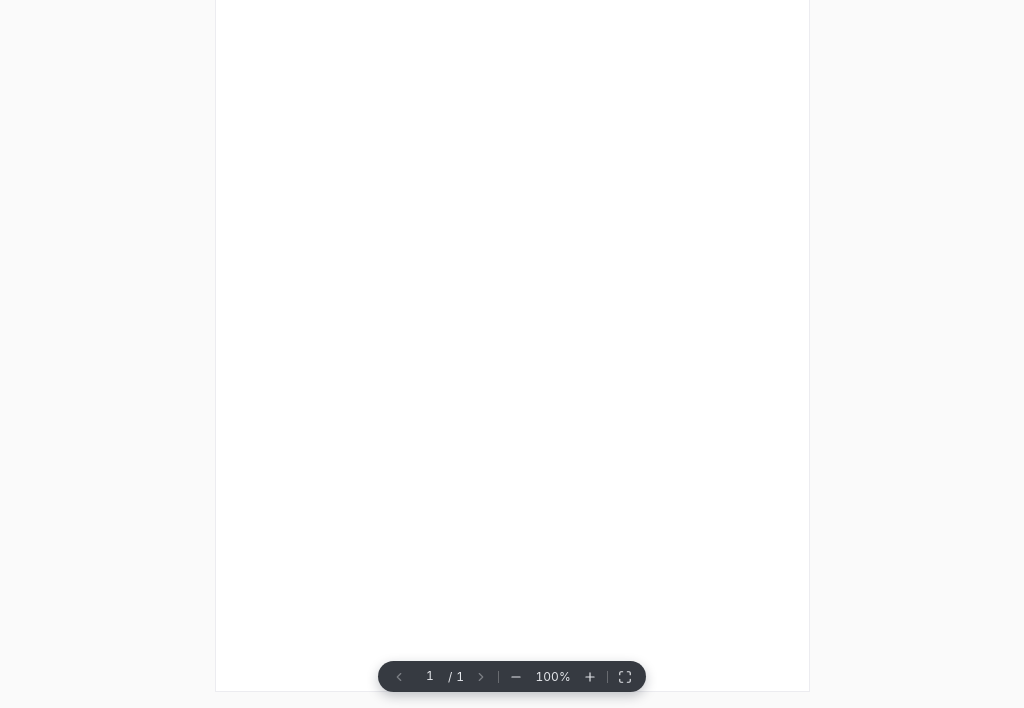
PdfViewer › 확대 버튼 클릭 시 scale이 25% 증가한다
(page scrolled)
Expected: the field with test id "pdf-page-input" holds "1", x1=416 y1=668 x2=444 y2=685
Expected: the text with test id "pdf-scale" reads "100%", x1=533 y1=668 x2=573 y2=684
What coordinates should you click on to do the following:
click the button with test id "pdf-zoom-in"
I would click on:
 (590, 676)
Its box is x1=583 y1=670 x2=597 y2=684.
(page scrolled)
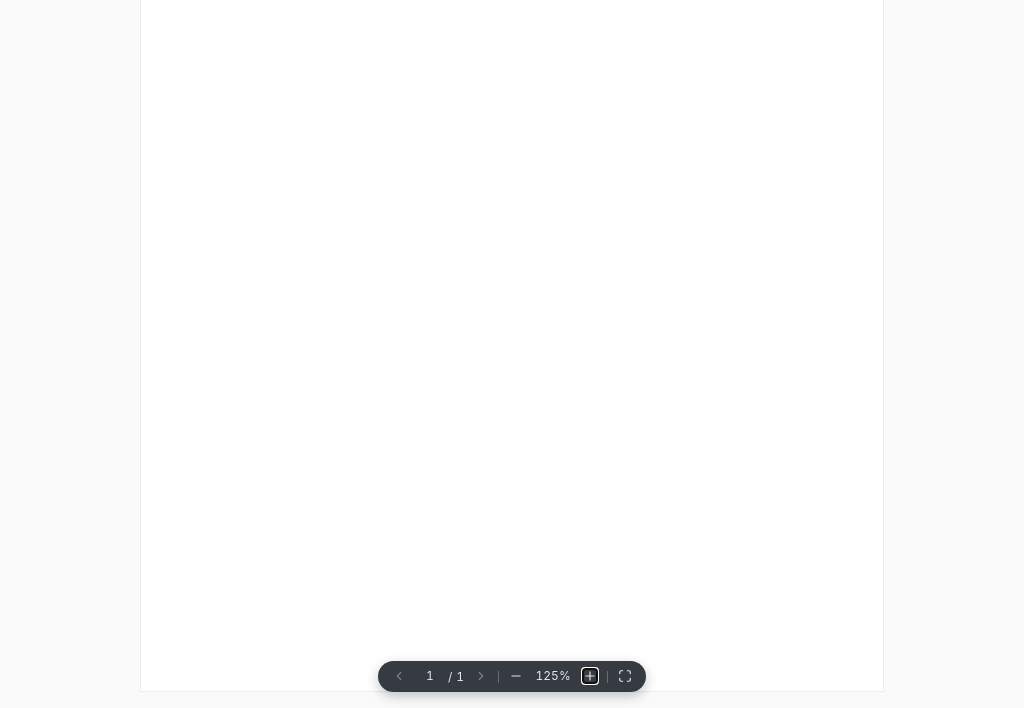
Expected: the text with test id "pdf-scale" reads "125%", x1=533 y1=668 x2=573 y2=684
